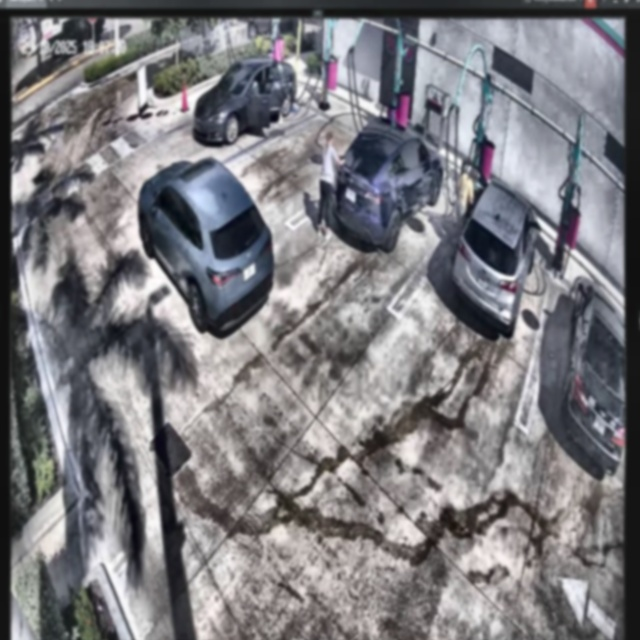Car: (134, 161, 273, 333), (328, 123, 442, 258), (451, 183, 539, 335), (194, 63, 297, 158)
